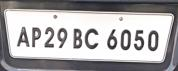0: (147, 29, 160, 53), (119, 29, 132, 51)
2: (43, 27, 56, 50)
5: (134, 29, 146, 51)
6: (106, 29, 118, 50)
9: (56, 27, 68, 50)
A: (15, 26, 31, 50)
B: (72, 26, 83, 49)
C: (84, 27, 101, 49)
P: (31, 26, 42, 48)
